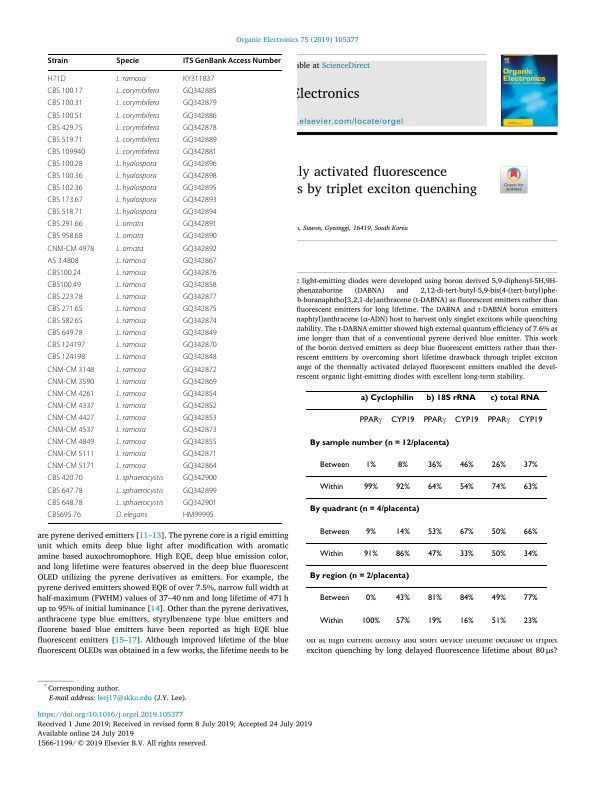borderless: (46, 52, 282, 523), (304, 389, 548, 633)
cell: (308, 438, 450, 448), (308, 505, 420, 514), (182, 56, 282, 66), (308, 572, 410, 581), (358, 405, 382, 427), (422, 405, 446, 427), (486, 405, 510, 427), (359, 394, 414, 403), (115, 473, 164, 483), (425, 394, 476, 403), (489, 394, 540, 403), (115, 86, 160, 96), (115, 98, 160, 108), (115, 486, 164, 495), (115, 498, 164, 507), (47, 425, 95, 434), (47, 437, 95, 446), (47, 449, 95, 458), (115, 171, 157, 181), (115, 183, 157, 193), (115, 195, 157, 205), (115, 207, 157, 217), (115, 111, 160, 120), (115, 123, 160, 132), (115, 135, 160, 144), (115, 147, 160, 156), (47, 244, 95, 252), (47, 365, 95, 373), (47, 377, 95, 385), (47, 389, 95, 397), (47, 401, 95, 409), (47, 413, 95, 421), (47, 462, 95, 470), (115, 159, 157, 168), (47, 171, 83, 180), (182, 171, 218, 180), (47, 183, 83, 192), (182, 183, 218, 192), (47, 195, 83, 204), (182, 195, 218, 204), (47, 304, 83, 313), (182, 304, 218, 313), (47, 316, 83, 325), (182, 316, 218, 325), (47, 328, 83, 337), (182, 328, 218, 337), (182, 425, 218, 434), (182, 437, 218, 446), (182, 449, 218, 458), (115, 74, 147, 84), (115, 292, 147, 302), (115, 304, 147, 314), (115, 316, 147, 326), (115, 328, 147, 338), (115, 340, 147, 350), (115, 352, 147, 362), (115, 413, 147, 423), (115, 425, 147, 435), (115, 437, 147, 447), (115, 449, 147, 459), (115, 461, 147, 471), (47, 147, 86, 155), (47, 341, 86, 349), (47, 353, 86, 361), (182, 74, 215, 83), (115, 510, 148, 519), (46, 87, 83, 95), (46, 99, 83, 107), (46, 111, 83, 119), (115, 219, 144, 229), (182, 87, 218, 95), (182, 99, 218, 107), (182, 111, 218, 119), (47, 123, 83, 131), (182, 123, 218, 131), (47, 135, 83, 143), (182, 135, 218, 143), (182, 147, 218, 155), (47, 159, 83, 167), (182, 159, 218, 167), (47, 208, 83, 216), (182, 208, 218, 216), (47, 220, 83, 228), (182, 220, 218, 228), (47, 232, 83, 240), (182, 232, 218, 240), (182, 244, 218, 252), (115, 256, 147, 265), (182, 256, 218, 264), (115, 268, 147, 277), (182, 268, 218, 276), (115, 280, 147, 289), (182, 280, 218, 288), (47, 292, 83, 300), (182, 292, 218, 300), (182, 341, 218, 349), (182, 353, 218, 361), (115, 365, 147, 374), (182, 365, 218, 373), (115, 377, 147, 386), (182, 377, 218, 385), (115, 389, 147, 398), (182, 389, 218, 397), (115, 401, 147, 410), (182, 401, 218, 409), (182, 413, 218, 421), (182, 462, 218, 470), (47, 474, 83, 482), (182, 474, 218, 482), (47, 486, 83, 494), (182, 486, 218, 494), (47, 498, 83, 506), (182, 498, 218, 506), (47, 268, 82, 276), (47, 280, 82, 288), (47, 510, 82, 518), (47, 256, 80, 264), (182, 510, 215, 518), (115, 232, 144, 241), (115, 244, 144, 253), (318, 460, 350, 468), (318, 527, 350, 535), (318, 594, 350, 602), (115, 56, 140, 66), (46, 56, 69, 66), (318, 549, 344, 557), (318, 616, 344, 624), (390, 416, 415, 424), (454, 416, 479, 424), (518, 416, 543, 424), (46, 74, 67, 83), (318, 483, 344, 490), (360, 616, 380, 624), (426, 460, 442, 468), (458, 460, 474, 468), (490, 460, 506, 468), (522, 460, 538, 468), (394, 527, 410, 535), (426, 527, 442, 535), (458, 527, 474, 535), (490, 527, 506, 535), (522, 527, 538, 535), (362, 549, 378, 557), (394, 549, 410, 557), (426, 549, 442, 557), (458, 549, 474, 557), (490, 549, 506, 557), (522, 549, 538, 557), (394, 594, 410, 602), (426, 594, 442, 602), (458, 594, 474, 602), (490, 594, 506, 602), (522, 594, 538, 602), (394, 616, 410, 624), (426, 616, 442, 624), (458, 616, 474, 624), (490, 616, 506, 624), (522, 616, 538, 624), (362, 483, 378, 490), (394, 483, 410, 490), (426, 483, 442, 490), (458, 483, 474, 490), (490, 483, 506, 490), (522, 483, 538, 490), (365, 460, 376, 468), (397, 460, 408, 468), (365, 527, 376, 535), (365, 594, 376, 602)
